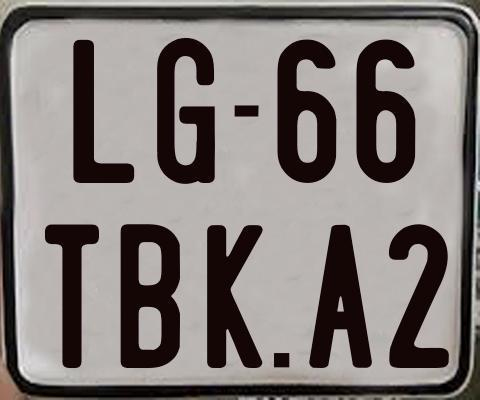2: (386, 224, 449, 371)
6: (353, 38, 417, 188), (276, 37, 338, 187)
A: (308, 222, 372, 371)
B: (119, 222, 179, 372)
G: (154, 38, 218, 185)
K: (206, 225, 268, 368)
L: (72, 37, 136, 185)
T: (45, 224, 103, 368)
